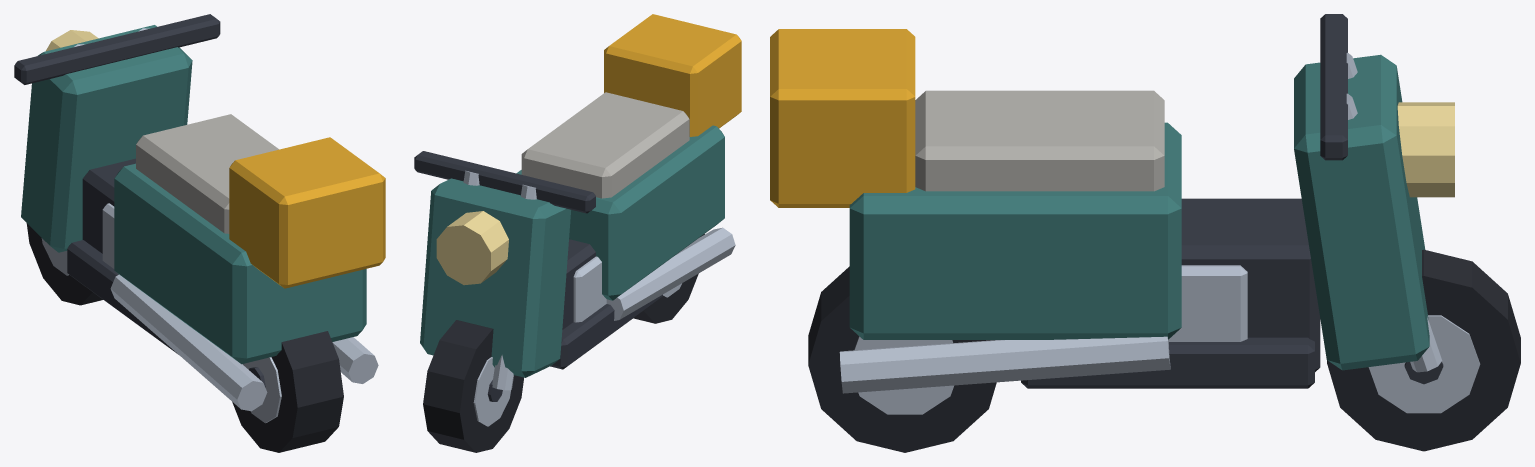
Rendered from Stylized_Apoc_Motorcycle_02_Smashed_Scooter.fbx.
The picture shows the model from 3 angles, left to right: view 1: azimuth 30°, elevation 25°; view 2: azimuth 150°, elevation 25°; view 3: azimuth 270°, elevation 25°; orthographic projection. The views are drawn at different scales.
Parts seen in each view (by area): view 1: Stylized_Apoc_Motorcycle_02_Smashed_Scooter; view 2: Stylized_Apoc_Motorcycle_02_Smashed_Scooter; view 3: Stylized_Apoc_Motorcycle_02_Smashed_Scooter.
Boxes of the visible parts, box(x1,y1,x2,y2) form: Stylized_Apoc_Motorcycle_02_Smashed_Scooter: box(14, 14, 385, 452); Stylized_Apoc_Motorcycle_02_Smashed_Scooter: box(414, 14, 741, 452); Stylized_Apoc_Motorcycle_02_Smashed_Scooter: box(770, 14, 1520, 452).
Bounding box in the file's own units: 0.86 × 1.21 × 2.17.
